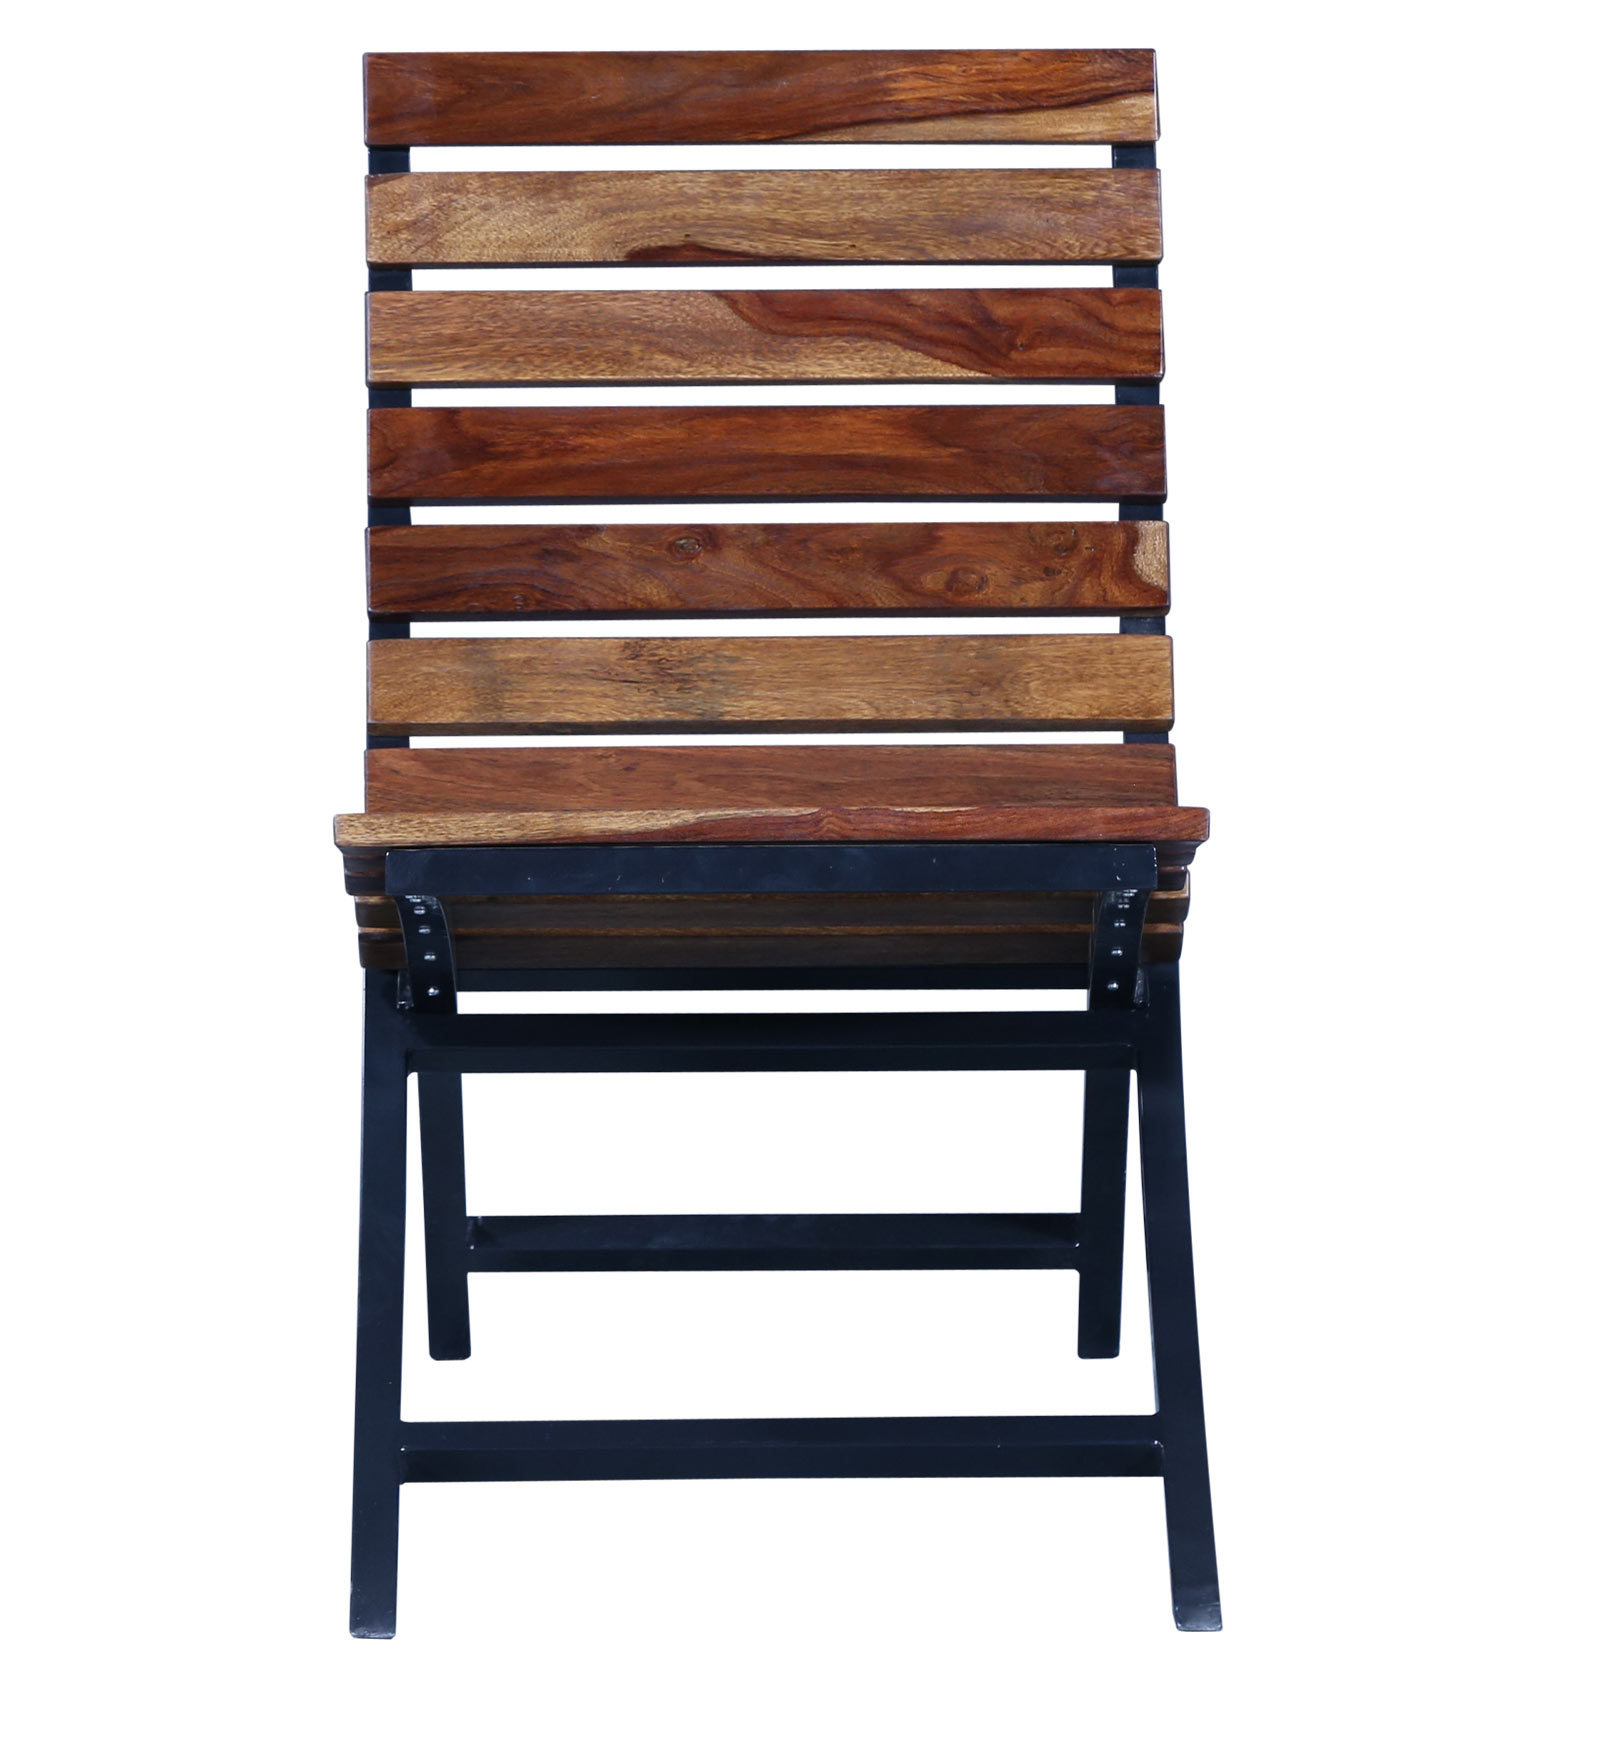Mexico Folding Chair by Bohemiana: (326, 35, 1234, 1648)
